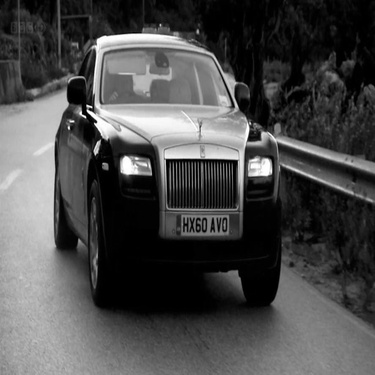car: (39, 16, 288, 313)
